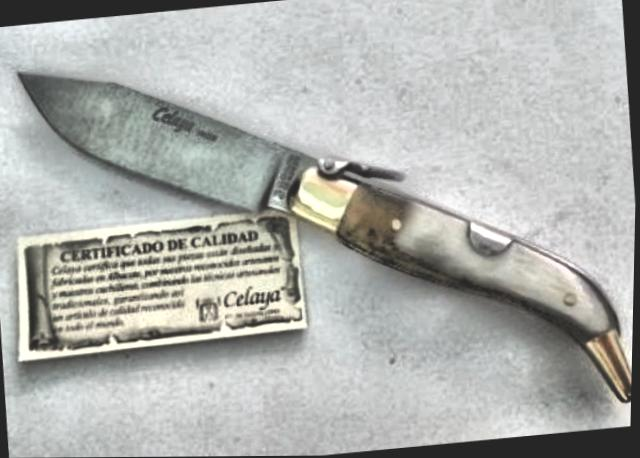knife: (6, 35, 317, 248)
